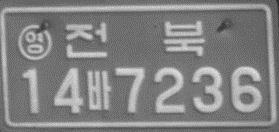1: (17, 66, 49, 115)
2: (153, 65, 186, 113)
3: (191, 65, 223, 114)
4: (53, 67, 84, 113)
6: (229, 65, 262, 114)
7: (114, 66, 144, 113)
바: (85, 69, 112, 111)
영: (16, 23, 52, 60)
전북_D: (62, 19, 205, 60)
